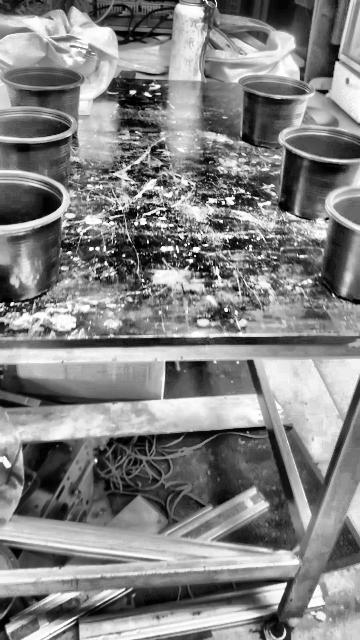pot: (0, 171, 67, 305), (279, 126, 359, 220), (0, 107, 76, 187), (239, 76, 314, 146), (1, 67, 84, 121), (321, 186, 359, 302), (103, 488, 138, 516)
